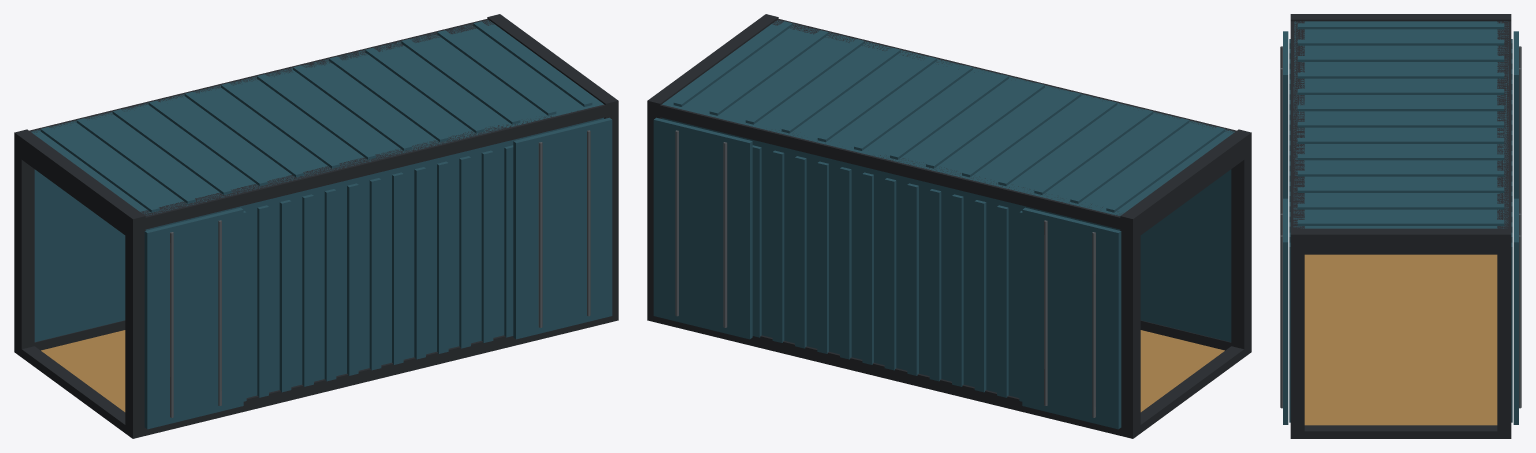
The model's file is gs-container-open.glb.
The picture shows the model from 3 angles, left to right: view 1: azimuth 30°, elevation 25°; view 2: azimuth 150°, elevation 25°; view 3: azimuth 270°, elevation 25°; orthographic projection. The views are drawn at different scales.
Visible parts, largest first — view 1: gs-container-open; view 2: gs-container-open; view 3: gs-container-open.
Boxes of the visible parts, x1,y1,x2,y2 form: gs-container-open: (14,14,618,438); gs-container-open: (647,14,1251,438); gs-container-open: (1280,14,1521,438).
Bounding box in the file's own units: 6.06 × 2.63 × 2.8.
